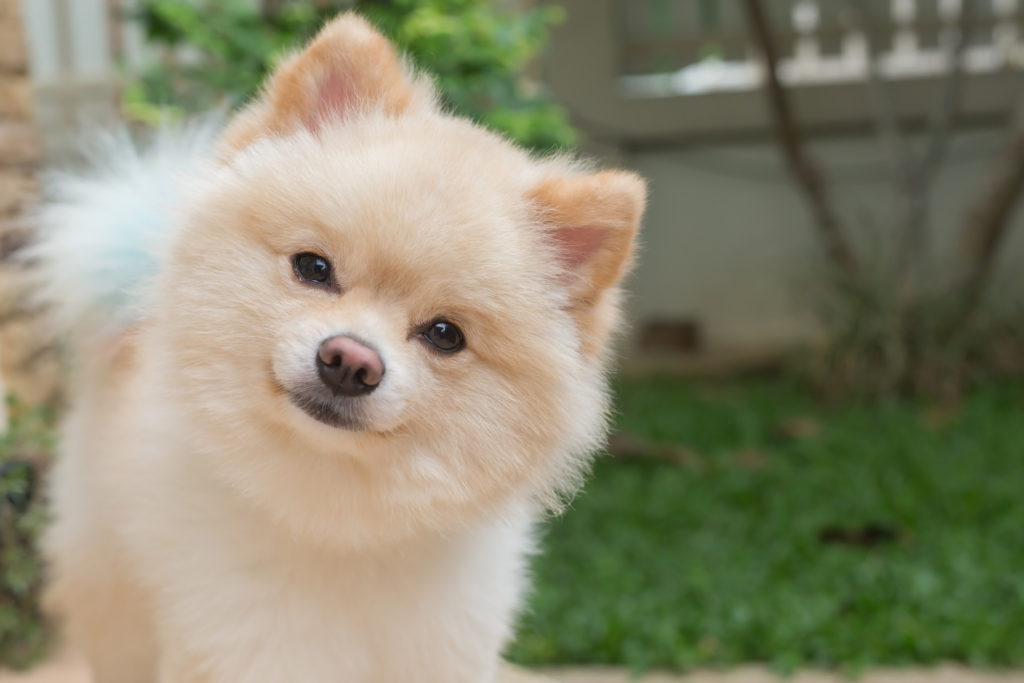pomeranian: (59, 20, 652, 683)
